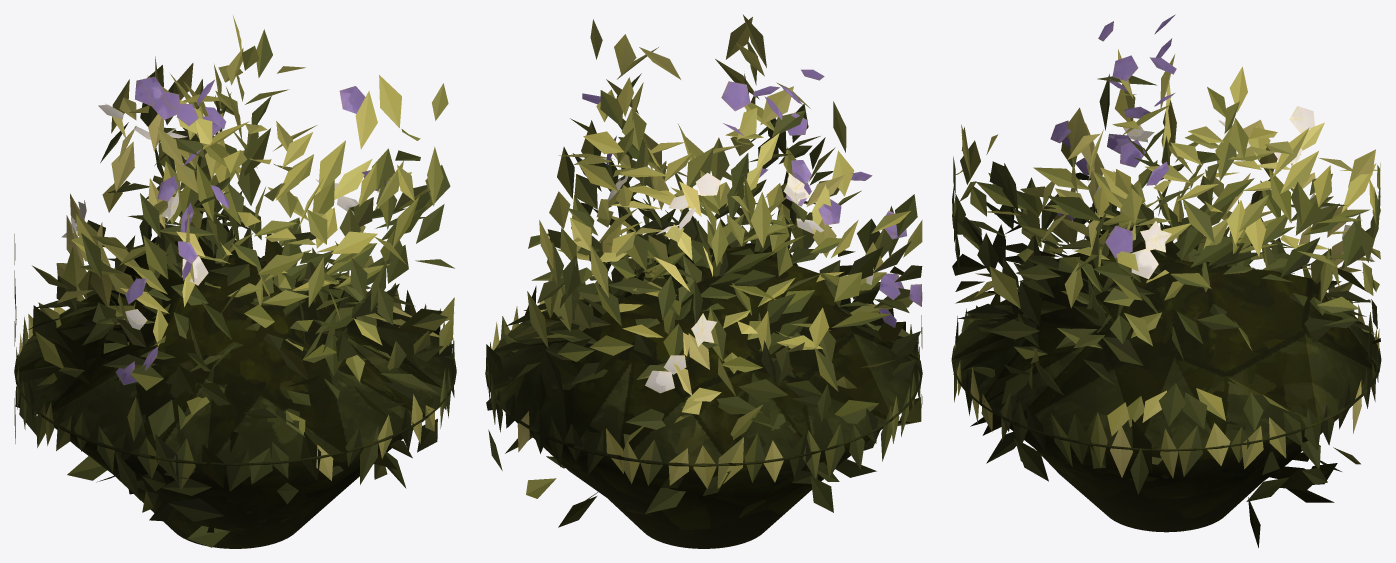
File: shrub_leafy.glb
3 renders of one model, left to right at view 1: azimuth 30°, elevation 25°; view 2: azimuth 150°, elevation 25°; view 3: azimuth 270°, elevation 25°, orthographic. The views are drawn at different scales.
Visible parts, largest first — view 1: body; view 2: body; view 3: body.
Boxes of the visible parts, <box> form: body: <box>14,15,456,548</box>; body: <box>485,14,922,548</box>; body: <box>951,14,1381,547</box>.
Bounding box in the file's own units: 1.1 × 1.29 × 1.1.
1 material, 1 textured.
